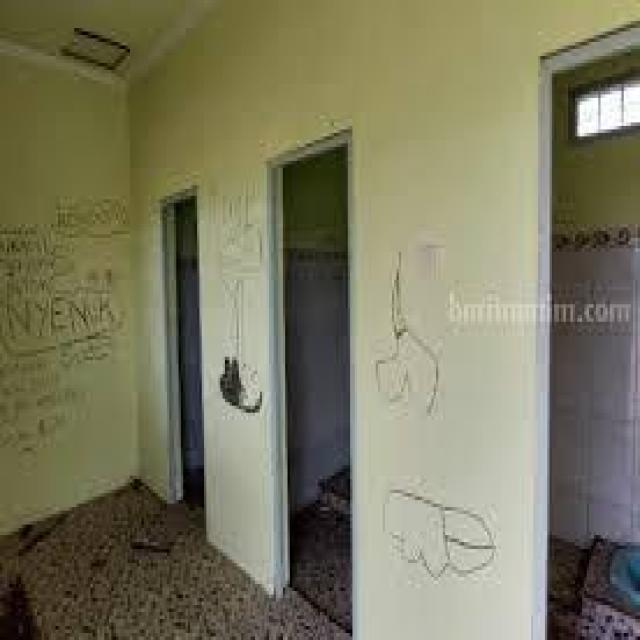nonspitting: (0, 195, 131, 370), (380, 486, 496, 586), (374, 252, 439, 422), (218, 192, 266, 414)
